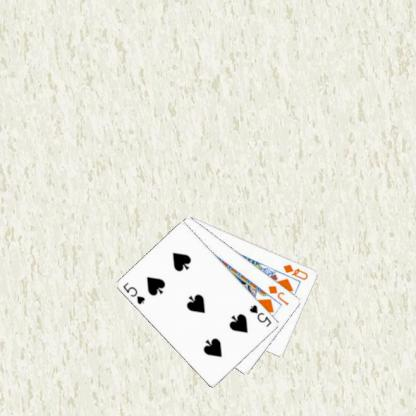5S: (120, 279, 147, 306), (247, 302, 273, 328)
JD: (266, 282, 290, 306)
QD: (280, 261, 310, 281)
